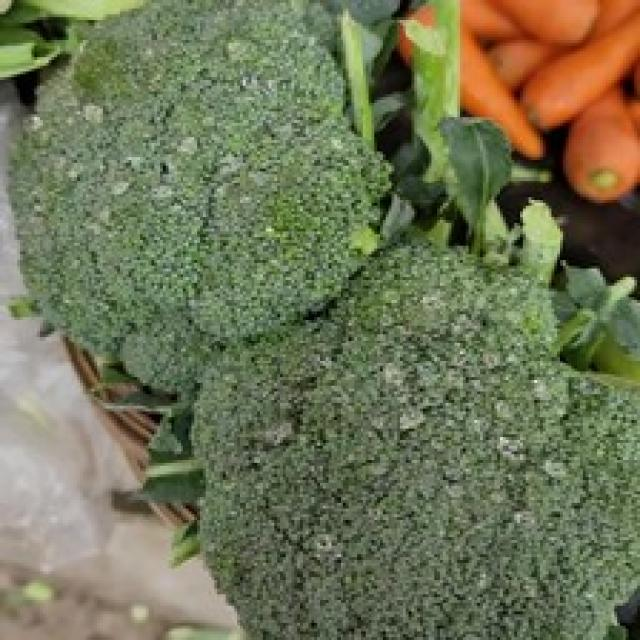Broccoli: (195, 246, 640, 639), (194, 249, 640, 639), (15, 0, 388, 392), (18, 0, 389, 393)
